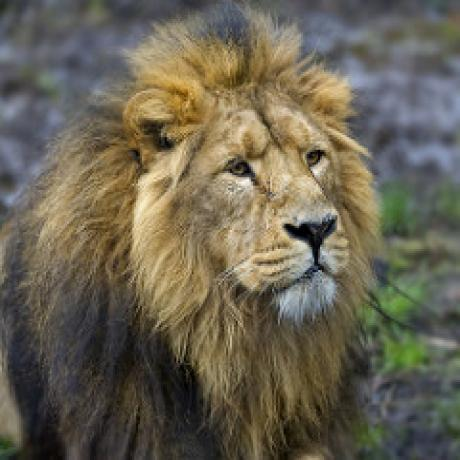Lion: (0, 6, 389, 460)
